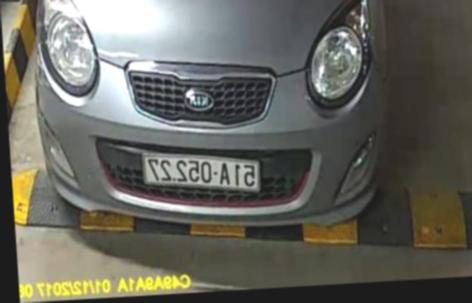License_Plate: (138, 146, 267, 199)
